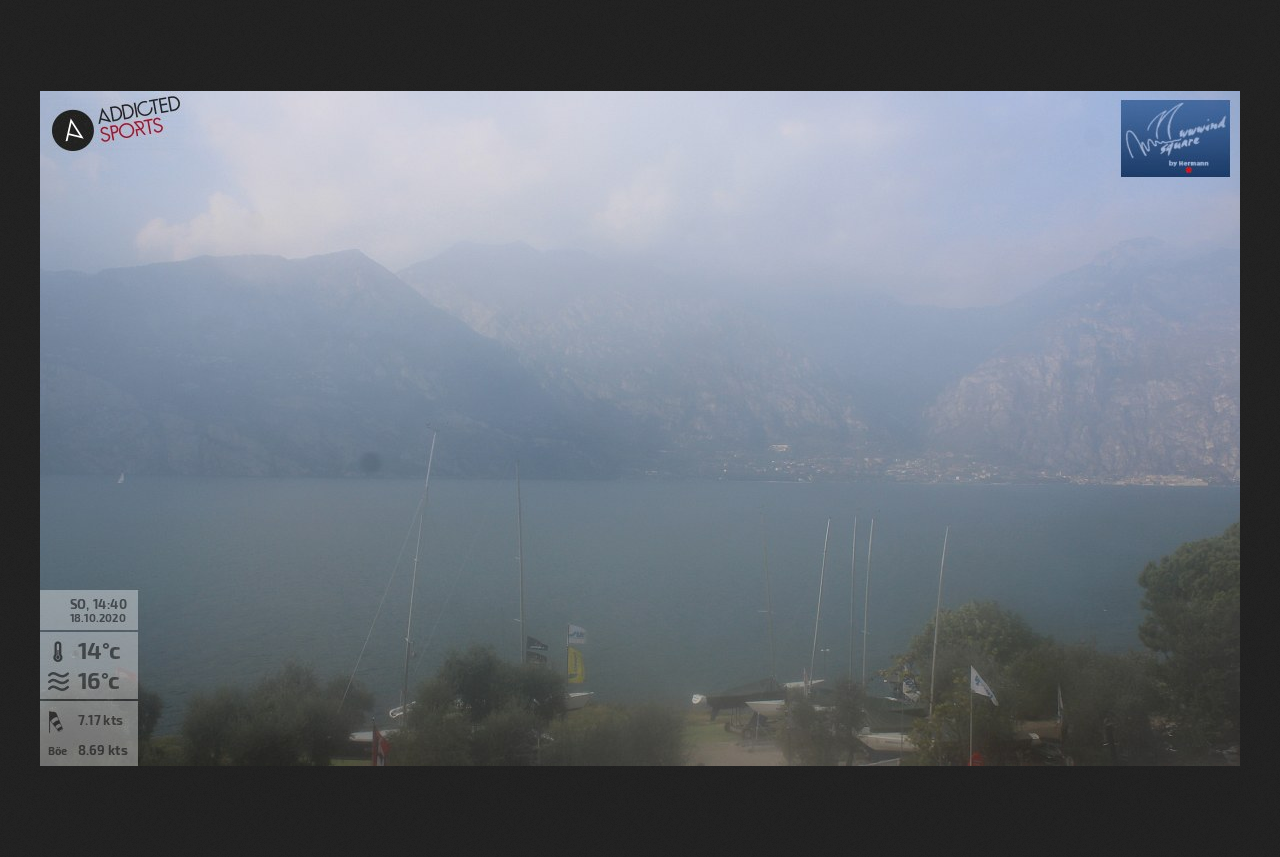maybe: (966, 661, 1001, 711), (895, 657, 925, 705)
yes: (565, 618, 588, 645)
